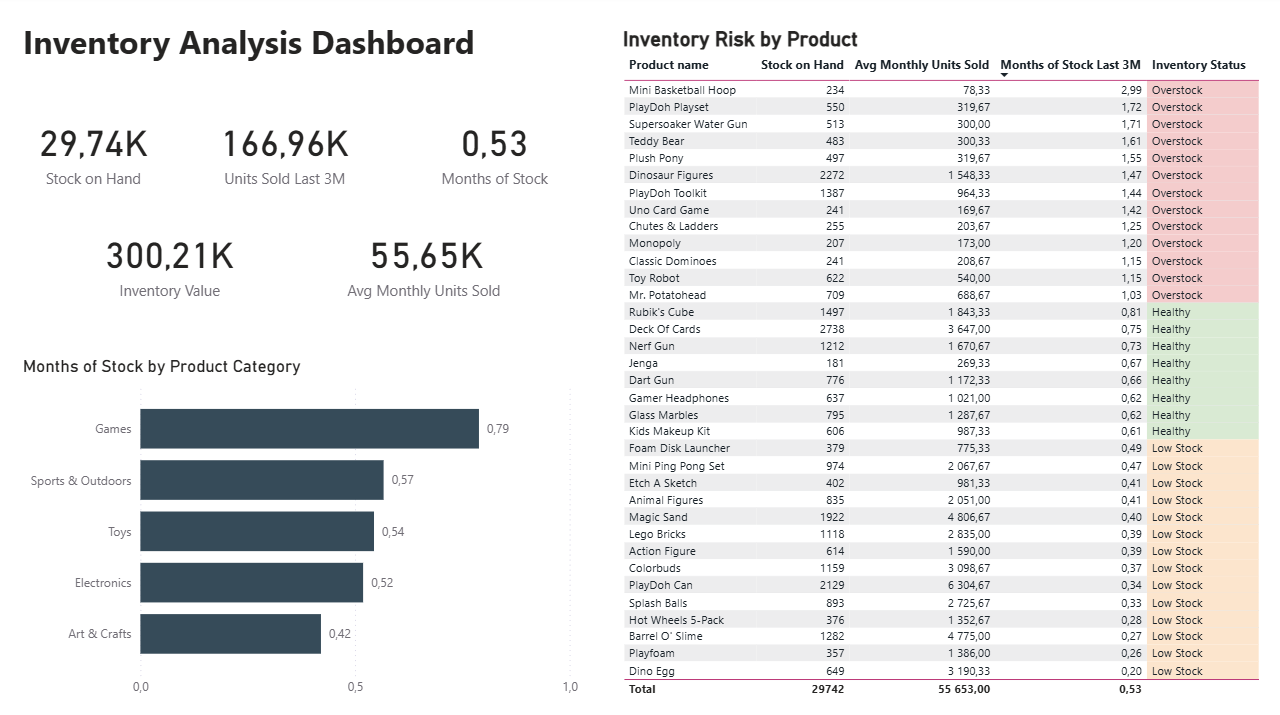

The dashboard page shown, as its layout file describes it:
{"tool":"powerbi","page":{"name":"Inventory Analysis","canvas":[1280,720],"ordinal":1},"visuals":[{"type":"card","fields":{"Values":["Mesures.Stock on Hand"]},"box":[19.9,114.4,150.5,79.6],"z":0},{"type":"card","fields":{"Values":["Mesures.Inventory Value"]},"box":[95.8,221.4,150.5,88.3],"z":1000},{"type":"card","fields":{"Values":["Mesures.Units Sold Last 3M"]},"box":[210.9,114.4,150.5,79.6],"z":2000},{"type":"card","fields":{"Values":["Mesures.Avg Monthly Units Sold Last 3M"]},"box":[313.5,221.4,225.2,88.3],"z":3000},{"type":"card","fields":{"Values":["Mesures.Months of Stock Last 3M"]},"box":[401.8,114.4,185.3,79.6],"z":4000},{"type":"clusteredBarChart","title":"Months of Stock by Product Category","fields":{"Category":["DimProduct.product_category"],"Y":["Mesures.Months of Stock Last 3M"]},"box":[19.9,359.5,567.2,347.1],"z":5000},{"type":"tableEx","title":"Inventory Risk by Product","fields":{"Values":["DimProduct.product_name","Mesures.Stock on Hand","Mesures.Avg Monthly Units Sold Last 3M","Mesures.Months of Stock Last 3M","Mesures.Inventory Status"]},"box":[617,31.1,645.6,675.5],"z":6000},{"type":"textbox","box":[20,20,487.1,54.3],"z":7000}]}

Visuals, with their boxes in screenshot pixels (x1, y1, x2, y2), scaled from the page's 1280x720 canvas onto the 1280x715 screenshot:
card - Mesures.Stock on Hand: bbox=(20, 114, 170, 193)
card - Mesures.Inventory Value: bbox=(96, 220, 246, 308)
card - Mesures.Units Sold Last 3M: bbox=(211, 114, 361, 193)
card - Mesures.Avg Monthly Units Sold Last 3M: bbox=(314, 220, 539, 308)
card - Mesures.Months of Stock Last 3M: bbox=(402, 114, 587, 193)
"Months of Stock by Product Category" clusteredBarChart: bbox=(20, 357, 587, 702)
"Inventory Risk by Product" tableEx: bbox=(617, 31, 1263, 702)
textbox: bbox=(20, 20, 507, 74)
